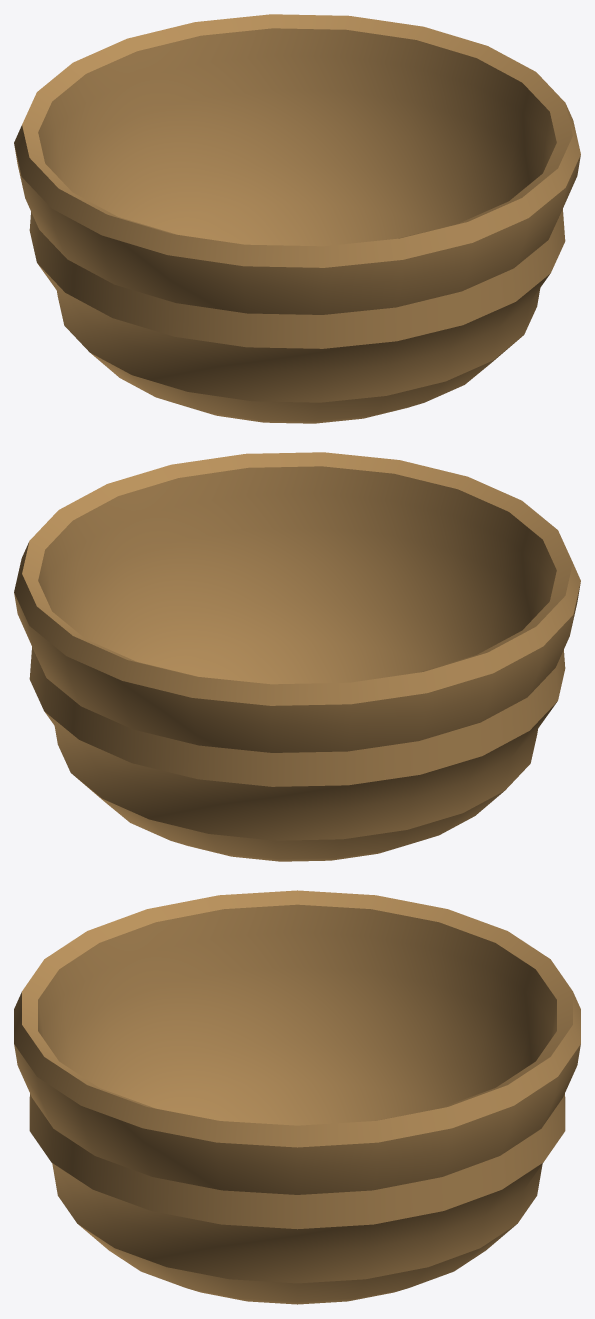
The model's file is basket.glb.
3 views of the same model, one above another, from view 1: azimuth 30°, elevation 25°; view 2: azimuth 150°, elevation 25°; view 3: azimuth 270°, elevation 25° (orthographic).
Parts seen in each view (by area): view 1: basket; view 2: basket; view 3: basket.
Boxes of the visible parts, left/top/right/bottom form: basket: left=14, top=14, right=580, bottom=423; basket: left=14, top=452, right=580, bottom=861; basket: left=14, top=890, right=580, bottom=1304.
Bounding box in the file's own units: 0.141 × 0.06 × 0.1396.
